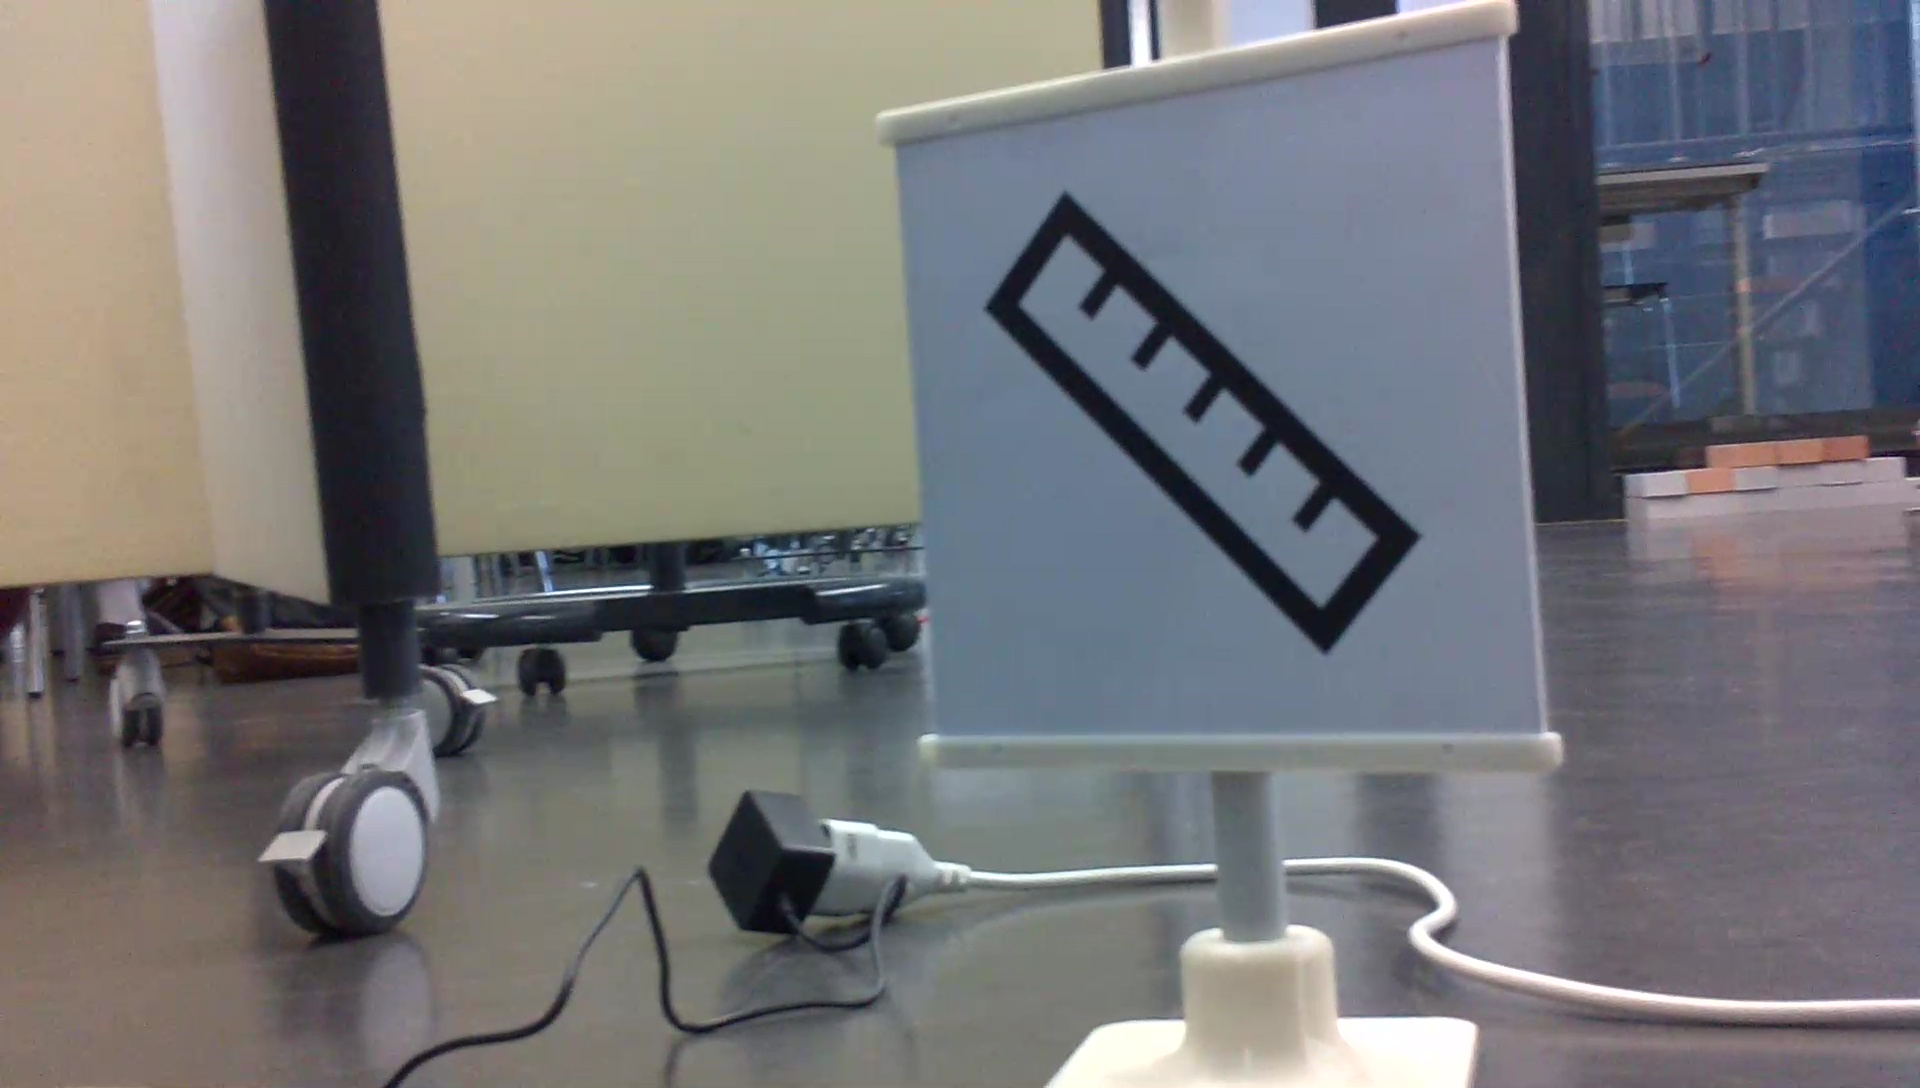ruler: (977, 181, 1433, 654)
